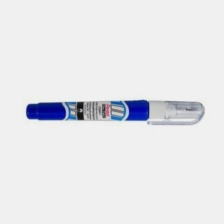correction_fluid: (22, 96, 206, 128)
